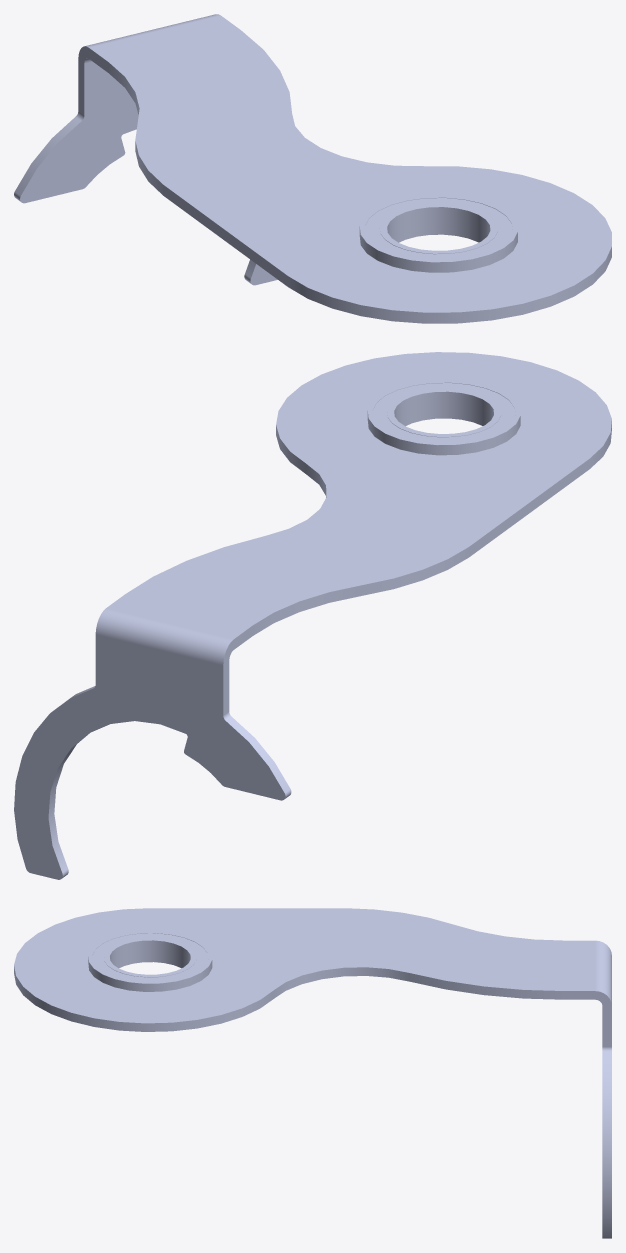
The picture shows the model from 3 angles, top to bottom: view 1: azimuth 30°, elevation 25°; view 2: azimuth 150°, elevation 25°; view 3: azimuth 270°, elevation 25°; orthographic projection. The views are drawn at different scales.
Visible parts, largest first — view 1: Body1; view 2: Body1; view 3: Body1.
Boxes of the visible parts, box(x1,y1,x2,y2) form: Body1: box(14, 14, 611, 323); Body1: box(14, 352, 611, 879); Body1: box(14, 908, 611, 1238).
Size of the model in its own units: 0.057 by 0.053 by 0.125.
